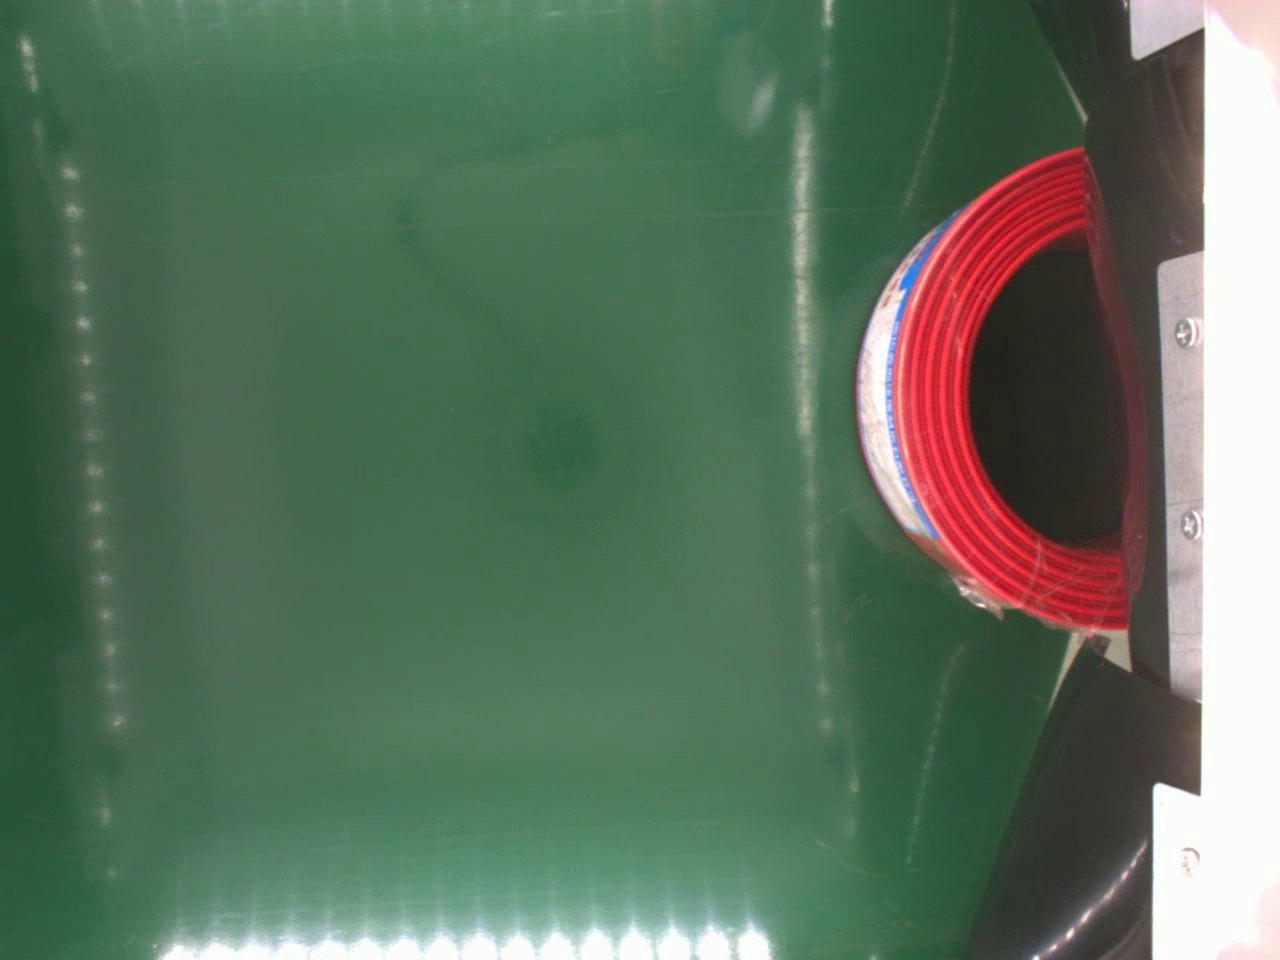red: (852, 145, 1129, 634)
